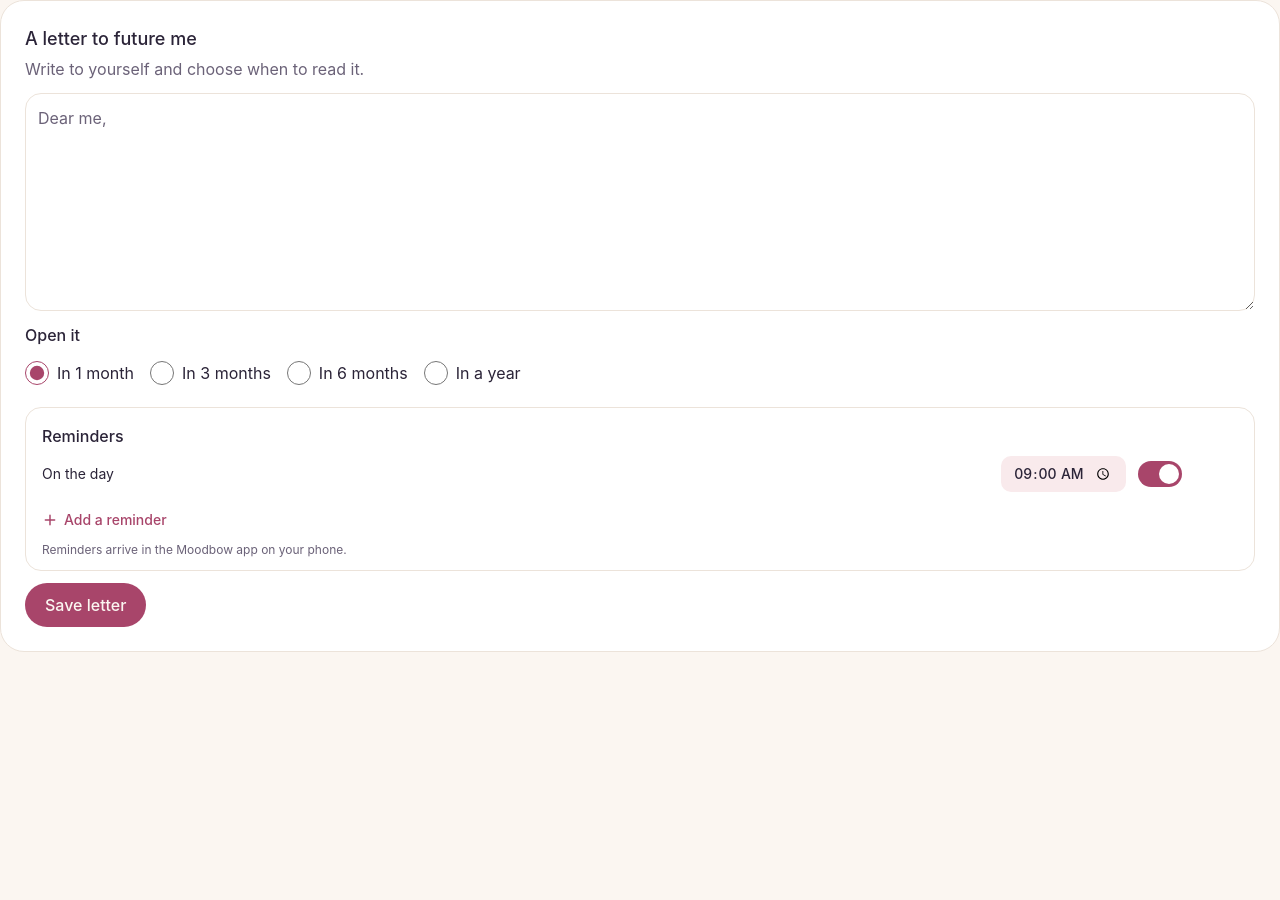
Test: LettersEditor: letters to future you are part of Plus (1.3 §3) › Plus ended while writing, its one save used: the text stays, with Copy
In the text box with test id "letter-text": coordinates (640, 202) [25,93,1255,311], type "Dear me, keep going."
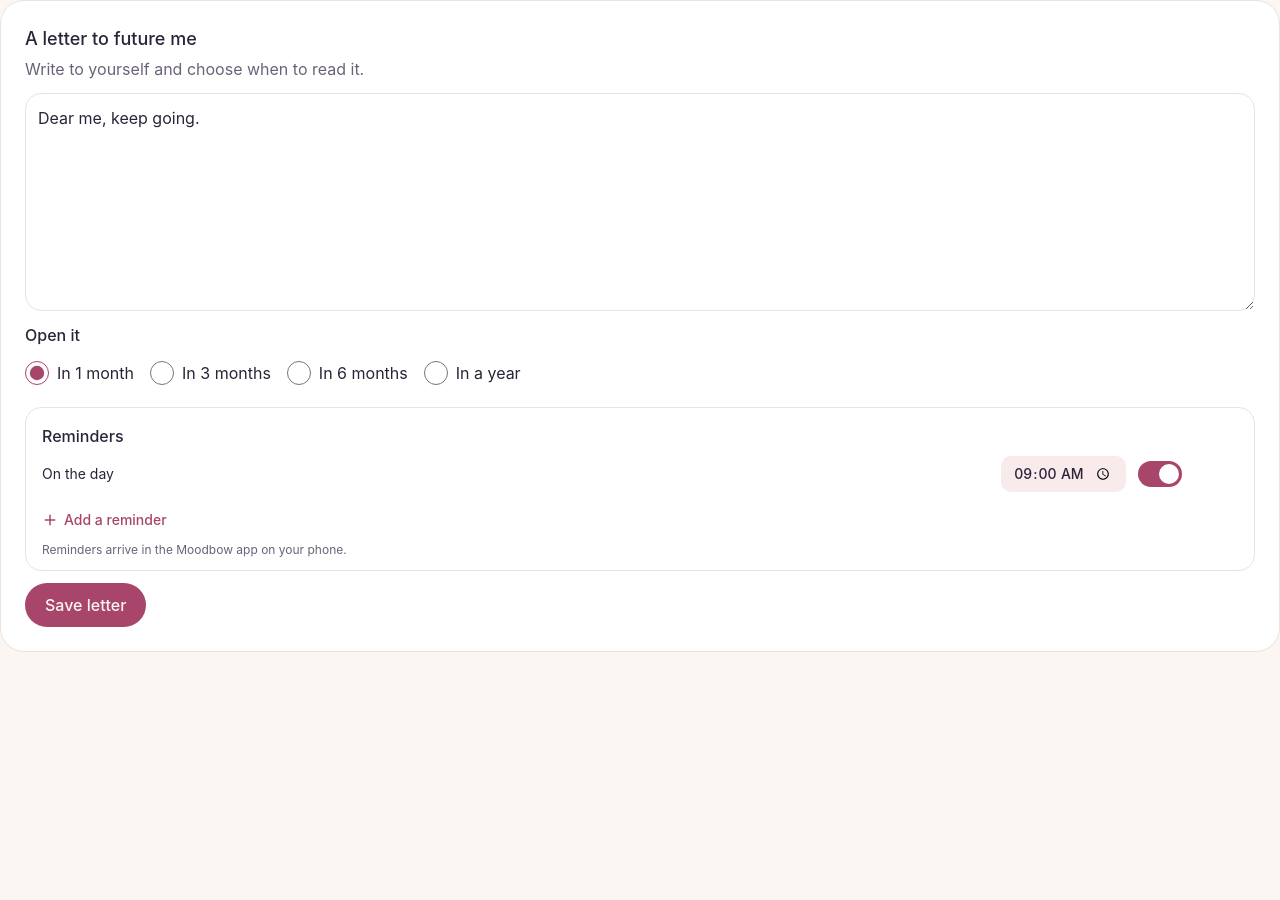
Click the button with test id "letter-save": coordinates (86, 605) [25,583,146,627]
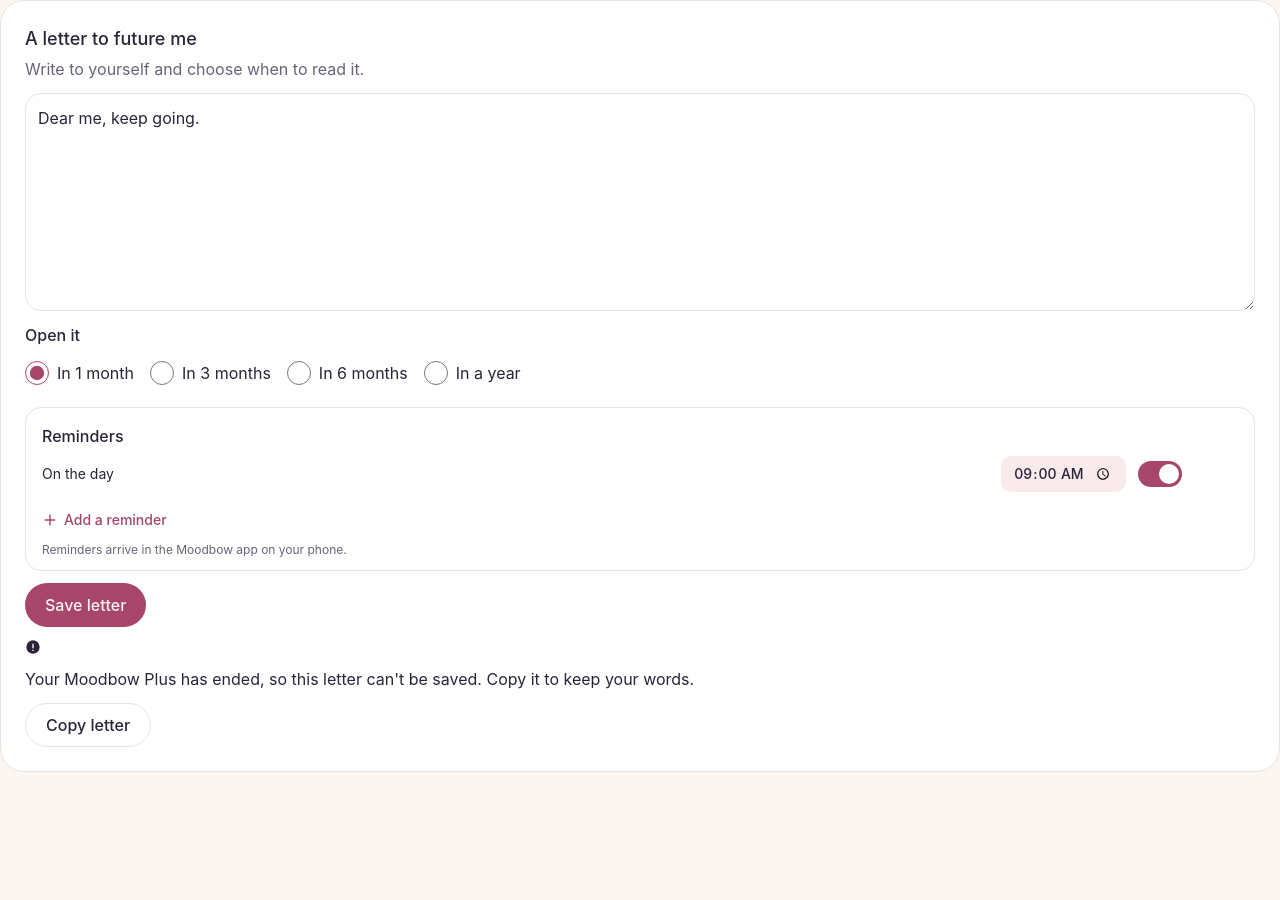
Now the message with test id "letters-lapsed" shows "Your Moodbow Plus has ended, so this letter can't be saved. Copy it to keep your words.", box [25,669,694,689]
Click the button with test id "letter-copy": coordinates (88, 725) [25,703,151,747]
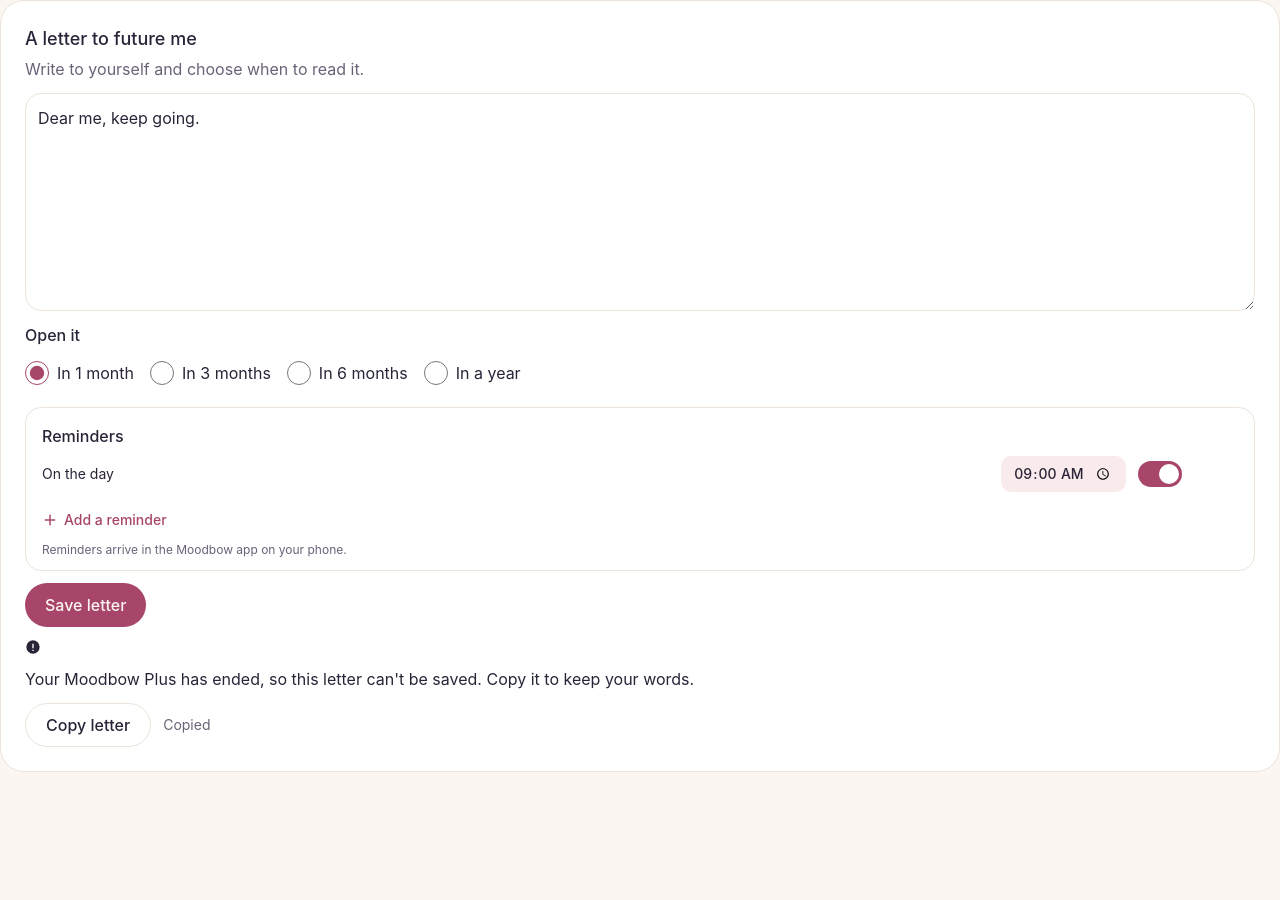
Now the message with test id "letters-lapsed" shows "Copied", box [163,716,210,733]
